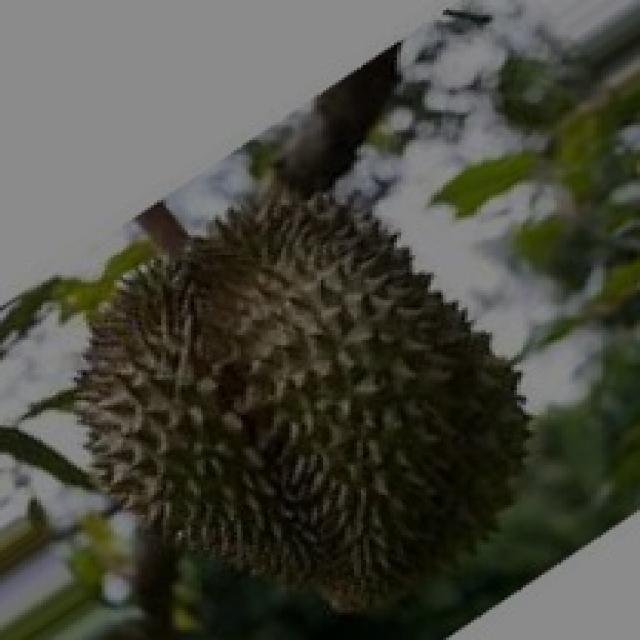fruit: (28, 190, 412, 640)
